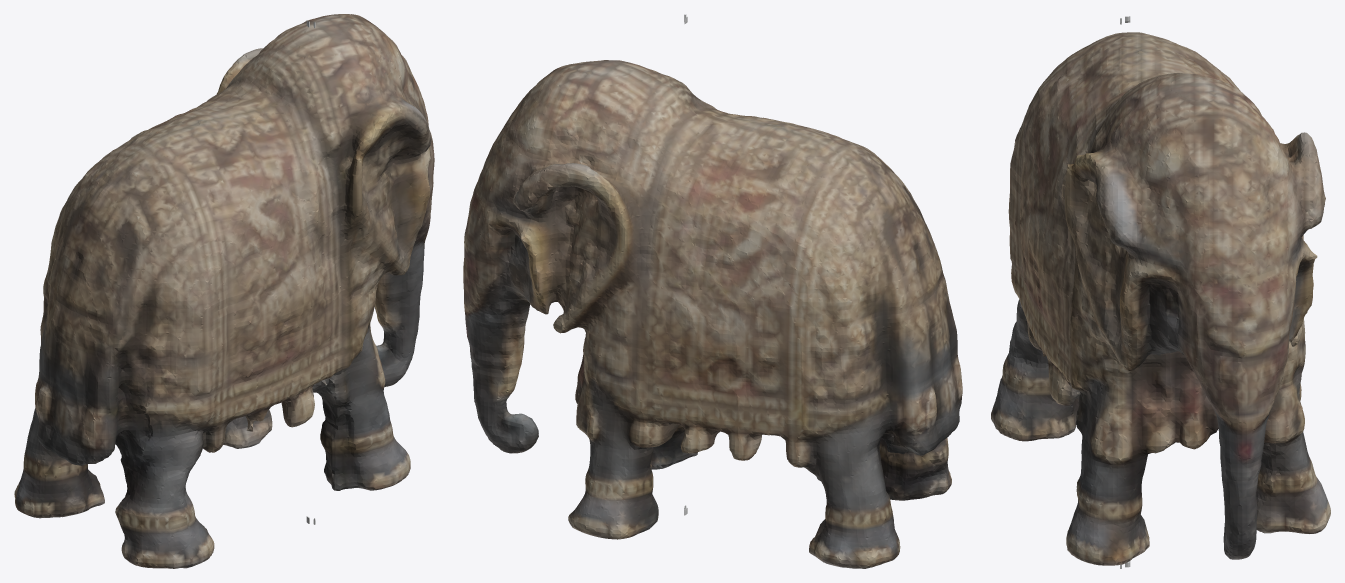
The model's file is elephant_instantmesh.glb.
The picture shows the model from 3 angles, left to right: view 1: azimuth 30°, elevation 25°; view 2: azimuth 150°, elevation 25°; view 3: azimuth 270°, elevation 25°; orthographic projection. The views are drawn at different scales.
Visible parts, largest first — view 1: world; view 2: world; view 3: world.
Boxes of the visible parts, x1,y1,x2,y2 form: world: [14, 14, 434, 568]; world: [463, 14, 962, 568]; world: [991, 16, 1330, 568].
Size of the model in its own units: 1.87 by 2.08 by 1.17.
